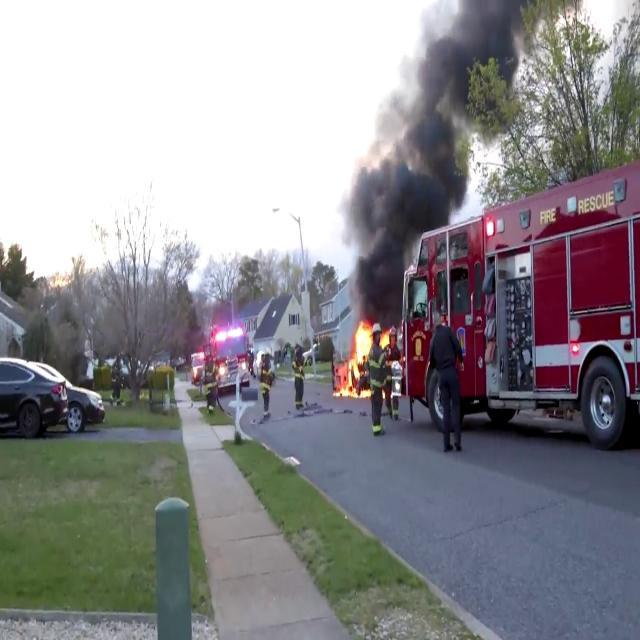Fire: (342, 318, 394, 396)
Smoke: (348, 0, 534, 298)
